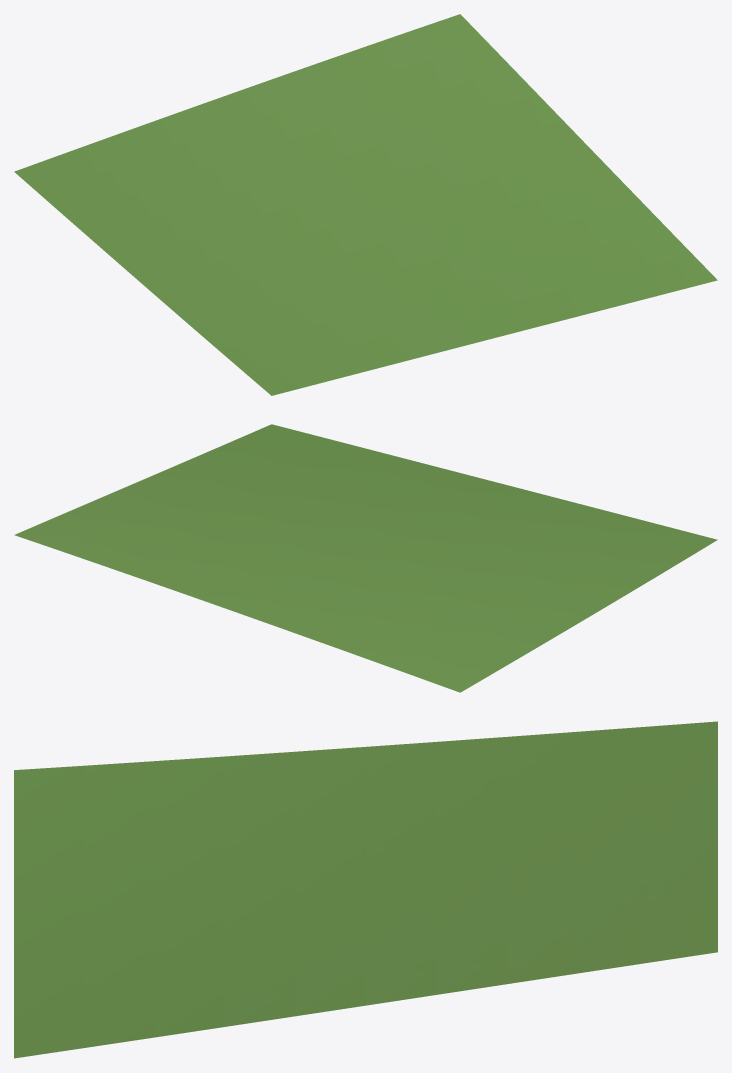
File: terrain-16-1.gltf
3 views of the same model, one above another, from view 1: azimuth 30°, elevation 25°; view 2: azimuth 150°, elevation 25°; view 3: azimuth 270°, elevation 25° (orthographic). The views are drawn at different scales.
Size of the model in its own units: 50 by 9.04 by 50.
